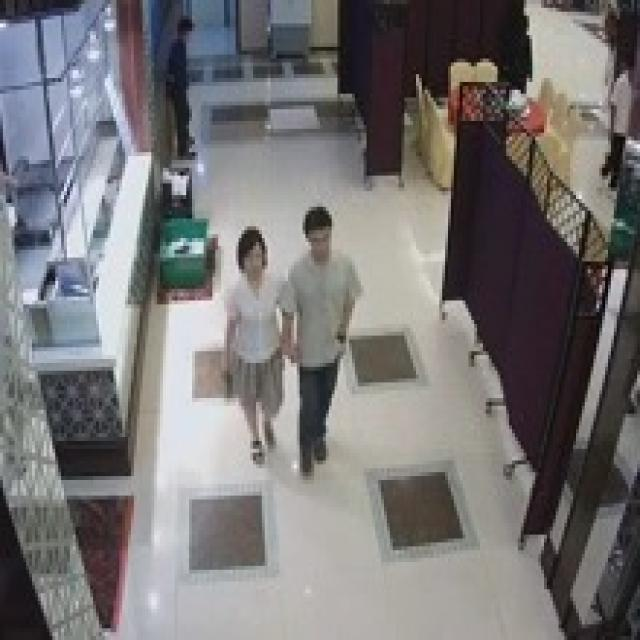Normal: (287, 183, 364, 494), (229, 188, 282, 491), (157, 9, 214, 166)
